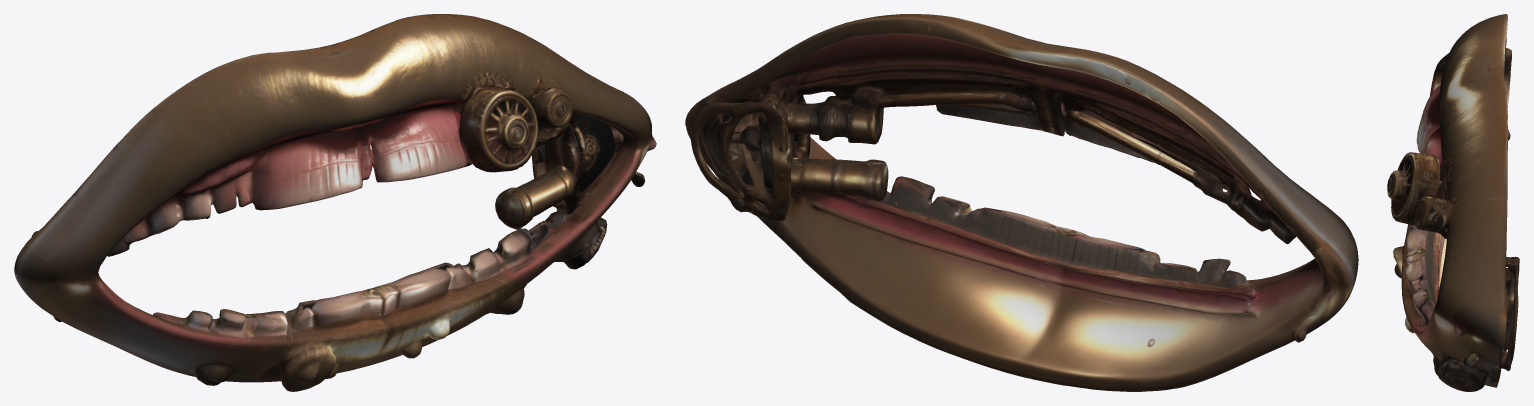
Rendered from Stylized_Steampunk__lips_refine.glb.
The picture shows the model from 3 angles, left to right: view 1: azimuth 30°, elevation 25°; view 2: azimuth 150°, elevation 25°; view 3: azimuth 270°, elevation 25°; orthographic projection. The views are drawn at different scales.
Bounding box in the file's own units: 1.99 × 0.9763 × 0.412.
Materials: 1 (1 with a texture image).
